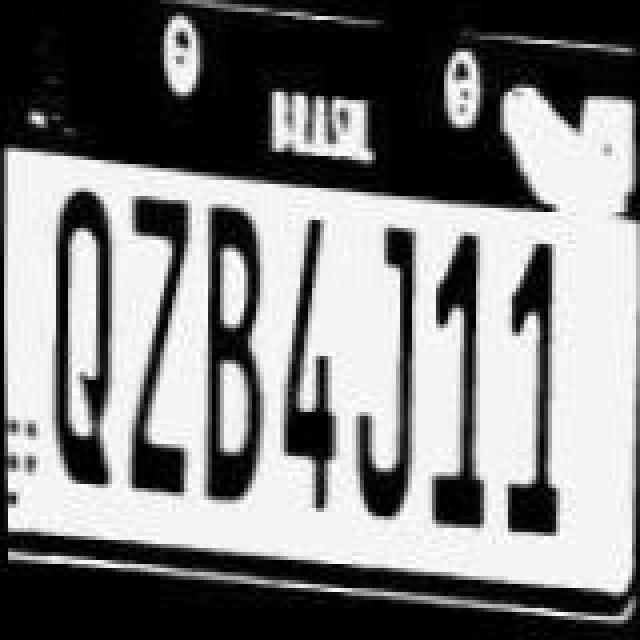1: (416, 226, 488, 522), (486, 246, 558, 538)
4: (272, 212, 344, 516)
B: (204, 196, 276, 504)
J: (340, 226, 420, 526)
Q: (50, 182, 134, 490)
Z: (122, 188, 206, 496)
